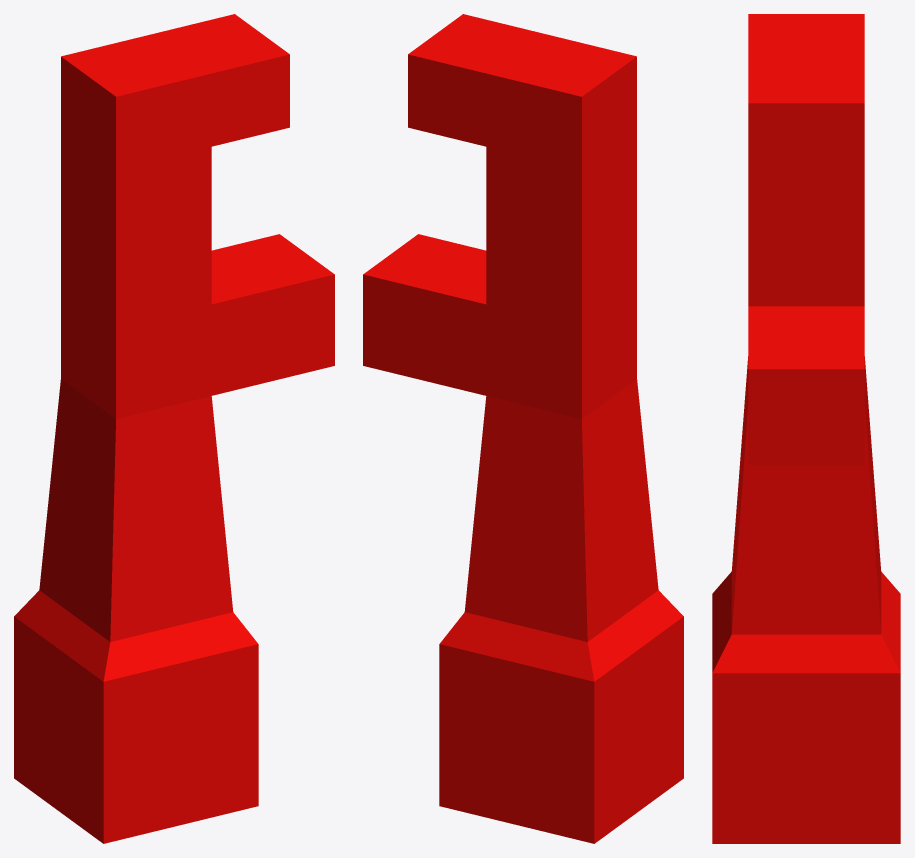
File: keyred.glb
The picture shows the model from 3 angles, left to right: view 1: azimuth 30°, elevation 25°; view 2: azimuth 150°, elevation 25°; view 3: azimuth 270°, elevation 25°; orthographic projection. The views are drawn at different scales.
Parts seen in each view (by area): view 1: Cube; view 2: Cube; view 3: Cube.
Boxes of the visible parts, x1=… form: Cube: x1=14, y1=14, x2=334, y2=843; Cube: x1=363, y1=14, x2=683, y2=843; Cube: x1=712, y1=14, x2=900, y2=843.
Size of the model in its own units: 1.6 by 4.49 by 1.
Materials: 1 (1 with a texture image).
